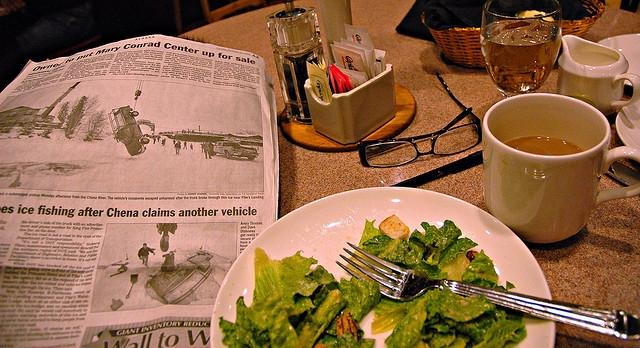lettuce: (250, 248, 336, 317), (404, 220, 462, 280), (296, 283, 349, 346), (423, 282, 502, 322), (340, 276, 381, 322), (235, 296, 271, 348), (440, 312, 492, 346), (362, 235, 412, 269), (268, 310, 303, 348), (371, 302, 412, 334), (473, 320, 523, 346), (462, 249, 498, 283), (438, 238, 478, 266), (428, 329, 456, 348), (316, 331, 338, 346)
